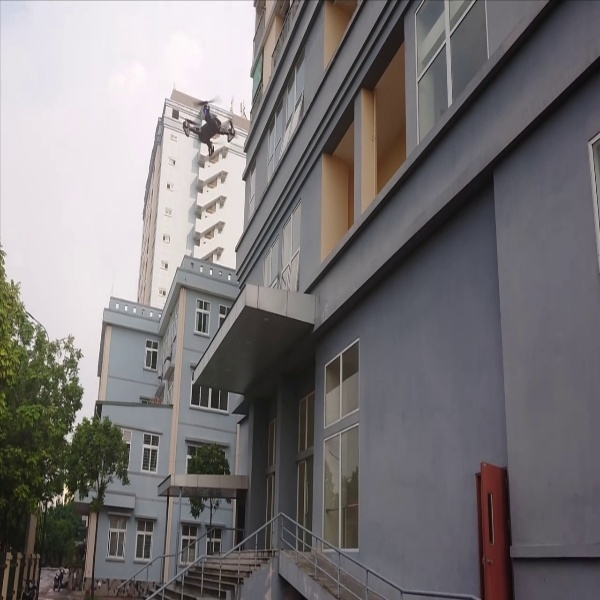drone: (174, 94, 242, 161)
